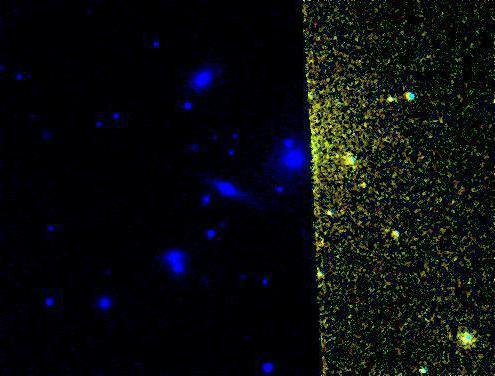star: (350, 170, 380, 200)
